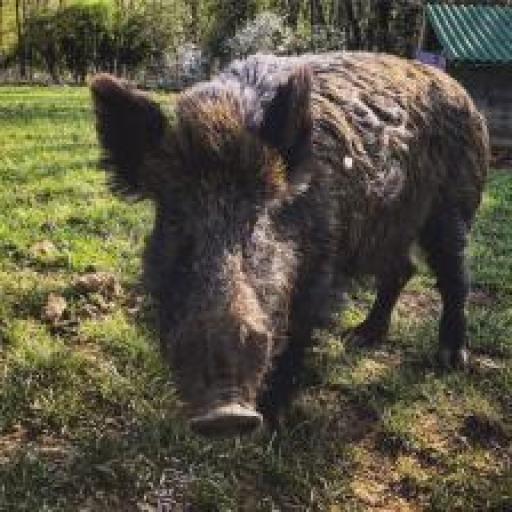Pig: (89, 50, 490, 434)
